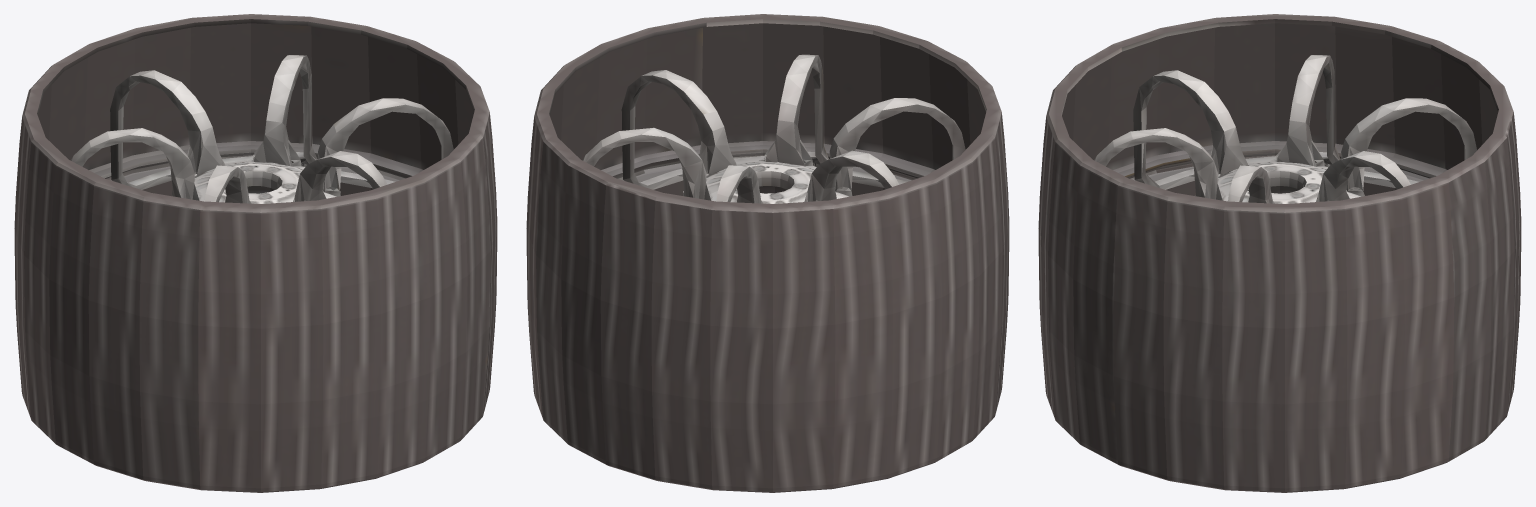
The model's file is wheel_lr.obj.
3 renders of one model, left to right at view 1: azimuth 30°, elevation 25°; view 2: azimuth 150°, elevation 25°; view 3: azimuth 270°, elevation 25°, orthographic.
Size of the model in its own units: 0.5098 by 0.3306 by 0.5098.
Materials: 1 (1 with a texture image).
